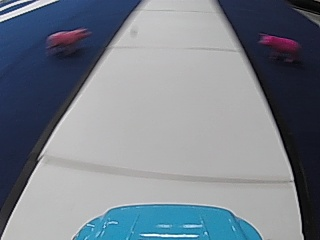pig: (256, 30, 301, 64), (45, 24, 90, 58)
